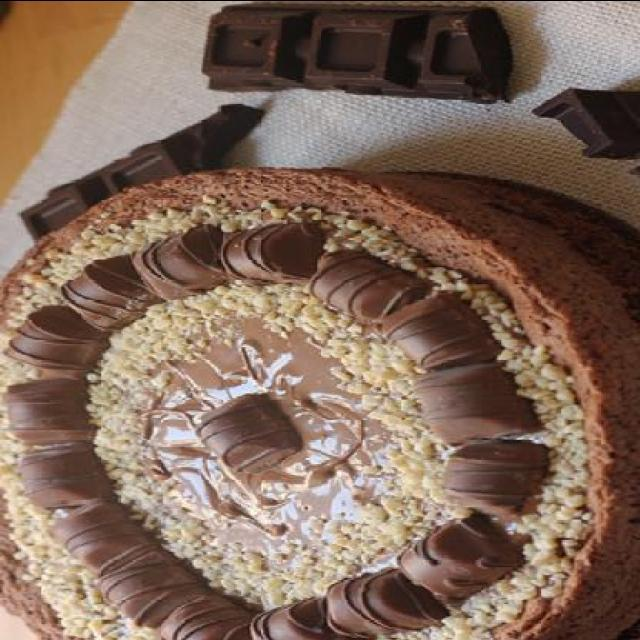Chocolate bar packaged: (186, 5, 546, 99), (194, 386, 294, 476)
